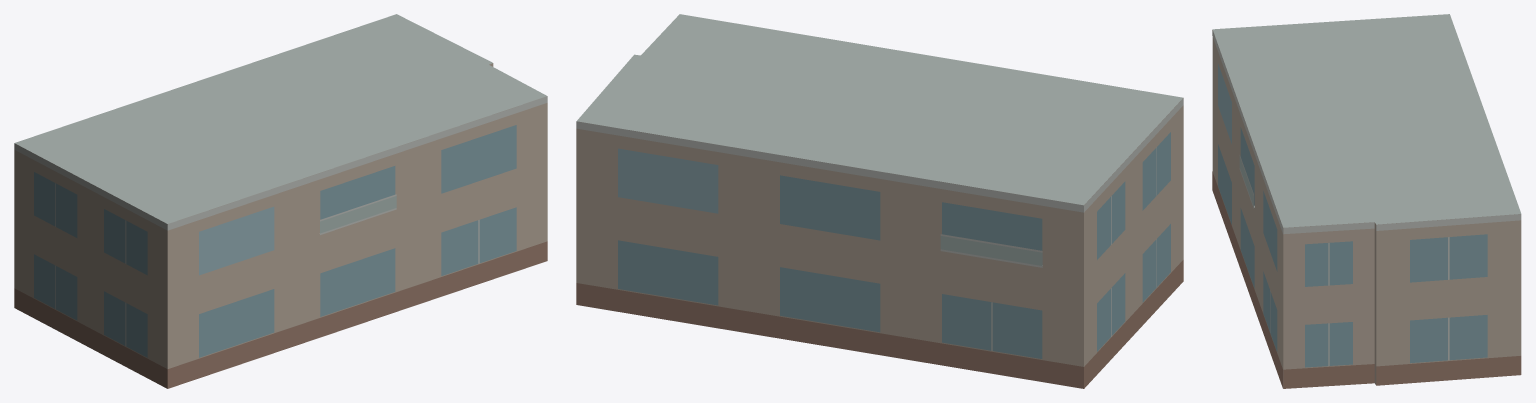
The model's file is survey-upis-32591861.glb.
3 renders of one model, left to right at view 1: azimuth 30°, elevation 25°; view 2: azimuth 150°, elevation 25°; view 3: azimuth 270°, elevation 25°, orthographic. The views are drawn at different scales.
Parts seen in each view (by area): view 1: survey-upis-32591861.tmp; view 2: survey-upis-32591861.tmp; view 3: survey-upis-32591861.tmp.
Part boxes in pixels (box(x1,y1,x2,y2)): survey-upis-32591861.tmp: box(14, 14, 547, 388); survey-upis-32591861.tmp: box(576, 14, 1183, 388); survey-upis-32591861.tmp: box(1212, 14, 1521, 388).
Size of the model in its own units: 17.37 by 6.1 by 10.61.
